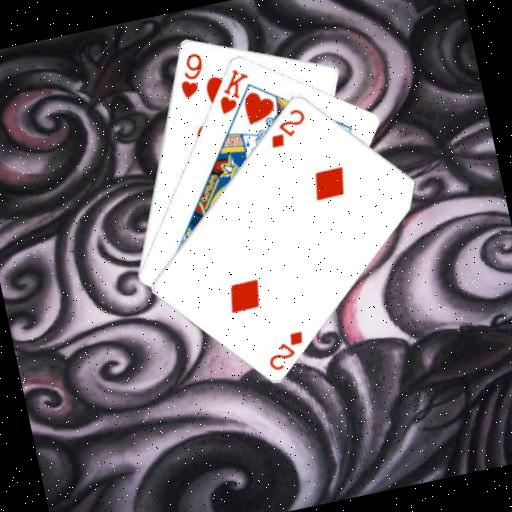2D: (261, 103, 312, 150), (260, 326, 311, 373)
9H: (170, 47, 210, 101)
KH: (209, 63, 256, 117)
